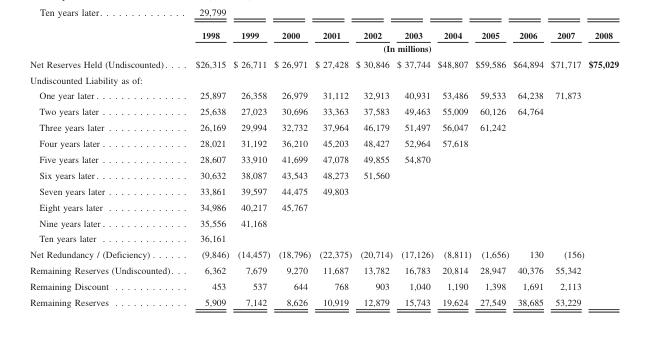table: (29, 29, 618, 307)
table column: (29, 29, 183, 307), (183, 29, 230, 307), (230, 29, 271, 307), (271, 29, 312, 307), (312, 29, 353, 307), (393, 29, 434, 307), (353, 29, 393, 307), (546, 29, 585, 307), (434, 29, 472, 307), (472, 29, 510, 307), (510, 29, 546, 307), (585, 29, 618, 307)
table column header: (29, 29, 618, 55)
table projected row header: (29, 71, 618, 87)
table row: (29, 55, 618, 71), (29, 71, 618, 87), (29, 87, 618, 103), (29, 103, 618, 119), (29, 134, 618, 150), (29, 150, 618, 166), (29, 166, 618, 182), (29, 182, 618, 198), (29, 198, 618, 214), (29, 214, 618, 230), (29, 230, 618, 246), (29, 246, 618, 262), (29, 262, 618, 278), (29, 119, 618, 134), (29, 278, 618, 293), (29, 41, 618, 55), (29, 293, 618, 307), (29, 29, 618, 41)
table spanning cell: (183, 41, 618, 55)
